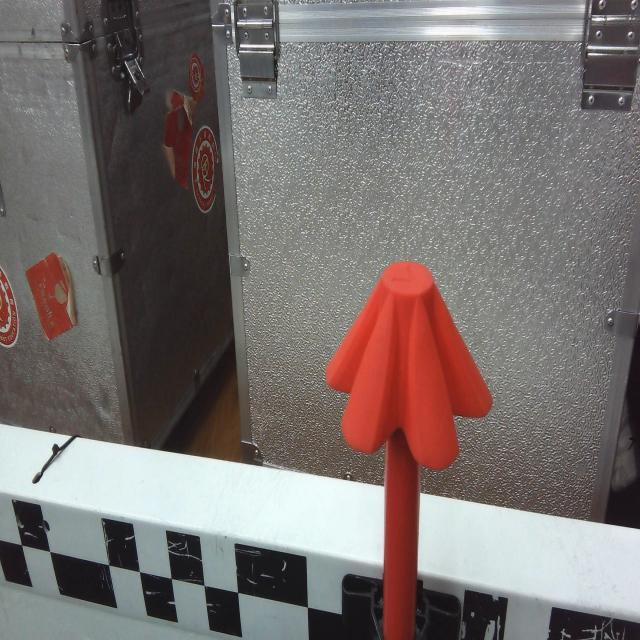zred-Stake-Head: (325, 260, 494, 472)
